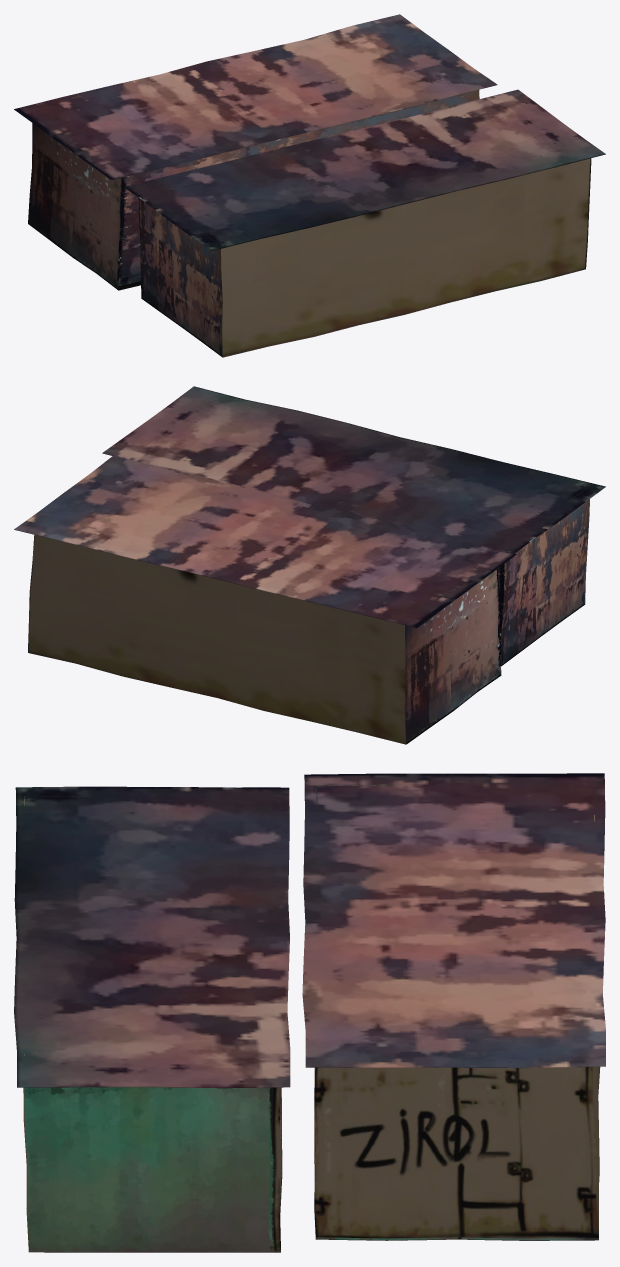
File: double_garage_01.FBX
3 renders of one model, top to bottom at view 1: azimuth 30°, elevation 25°; view 2: azimuth 150°, elevation 25°; view 3: azimuth 270°, elevation 25°, orthographic. The views are drawn at different scales.
Visible parts, largest first — view 1: Box002, Object001; view 2: Object001, Box002; view 3: Object001, Box002.
Part boxes in pixels (x1,y1,x2,y2): Box002: (123,89,605,357); Object001: (14,14,497,290); Object001: (14,455,516,744); Box002: (102,386,605,666); Object001: (302,773,605,1240); Box002: (14,786,290,1252).
Bounding box in the file's own units: 111 × 31.77 × 90.86.
1 material, 1 textured.
